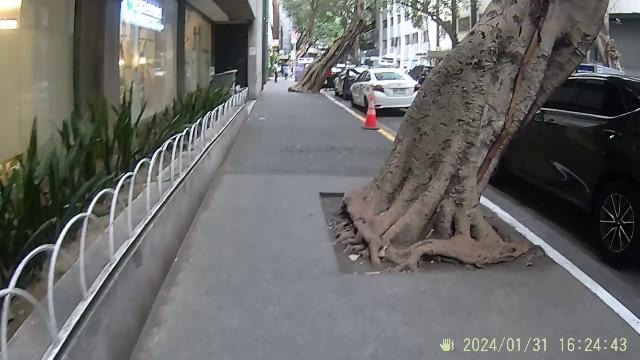construction_materials: (360, 90, 384, 132)
tree: (350, 0, 606, 266)
